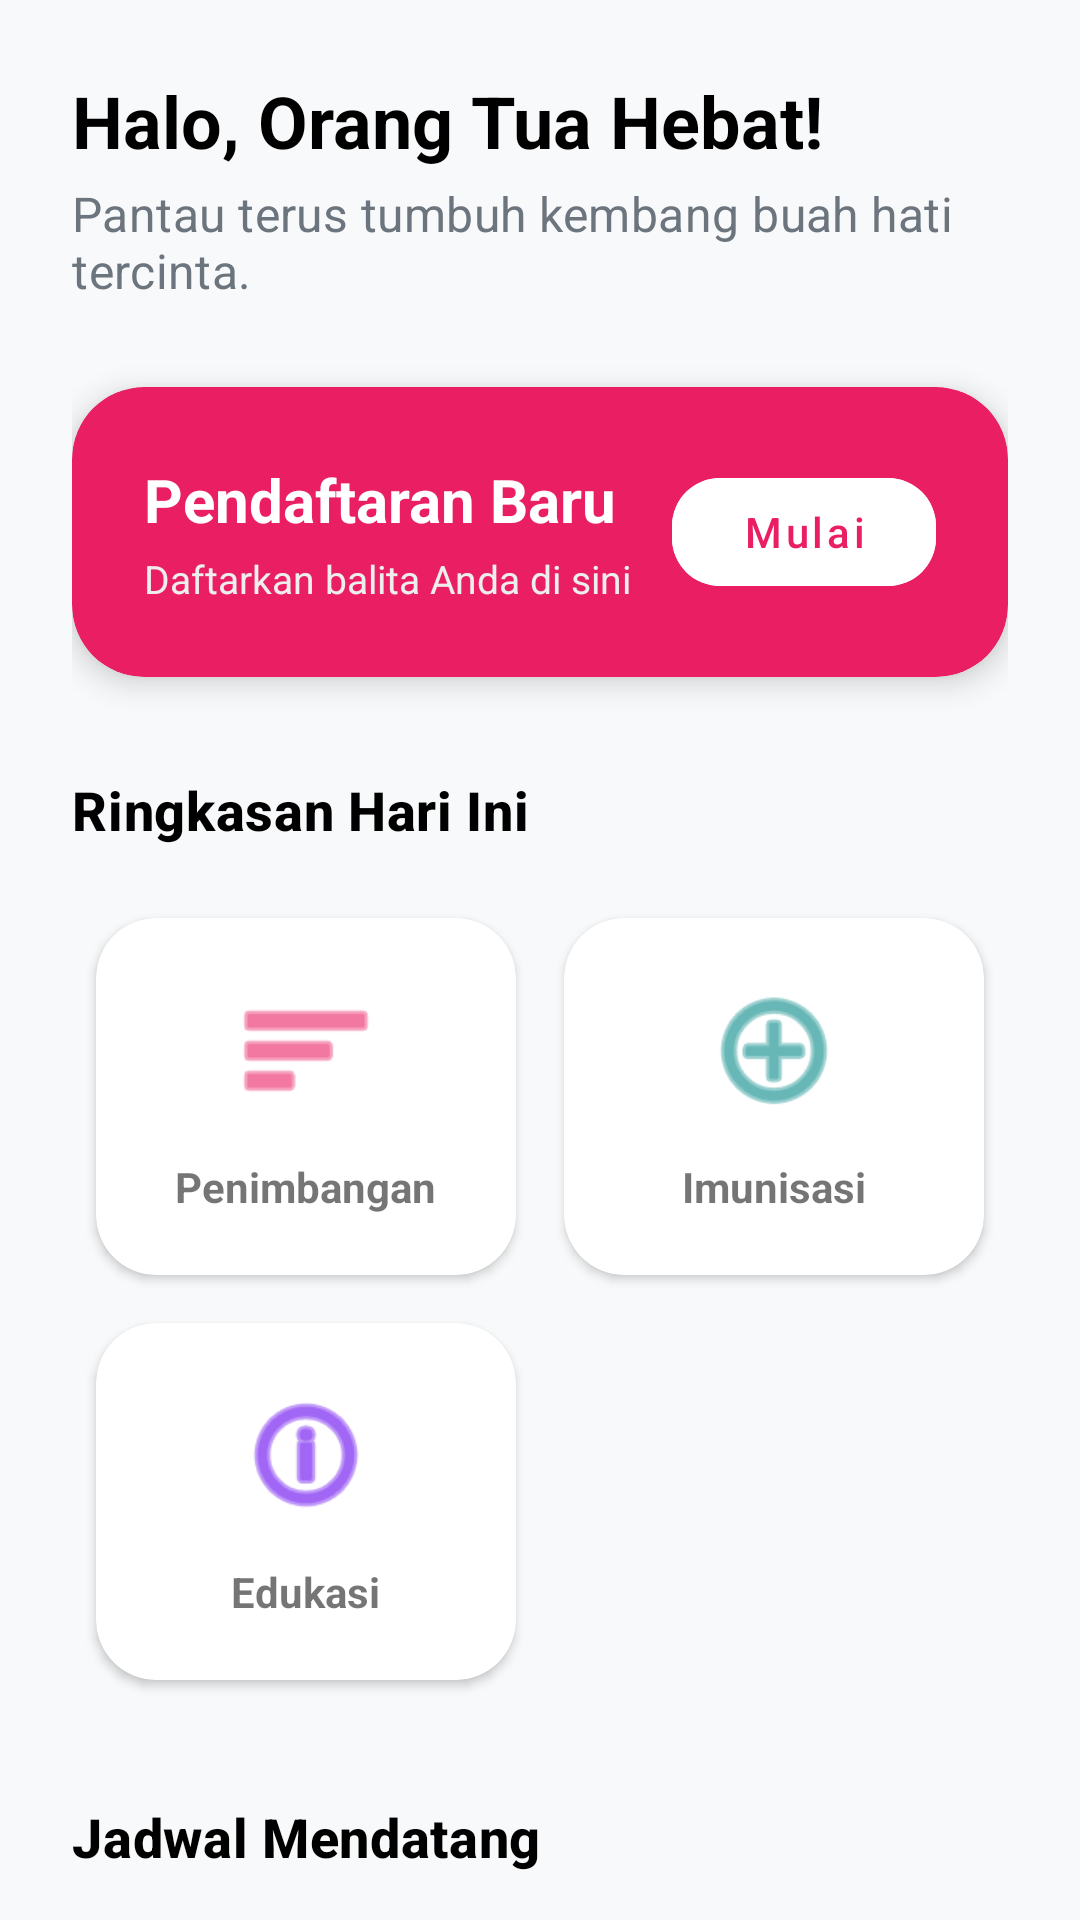

Screen size 1080*1920. Icon name, then its center in pixels as (x=x, y=y):
add: (x=774, y=1050)
info details: (x=306, y=1455)
sort by size: (x=306, y=1050)
